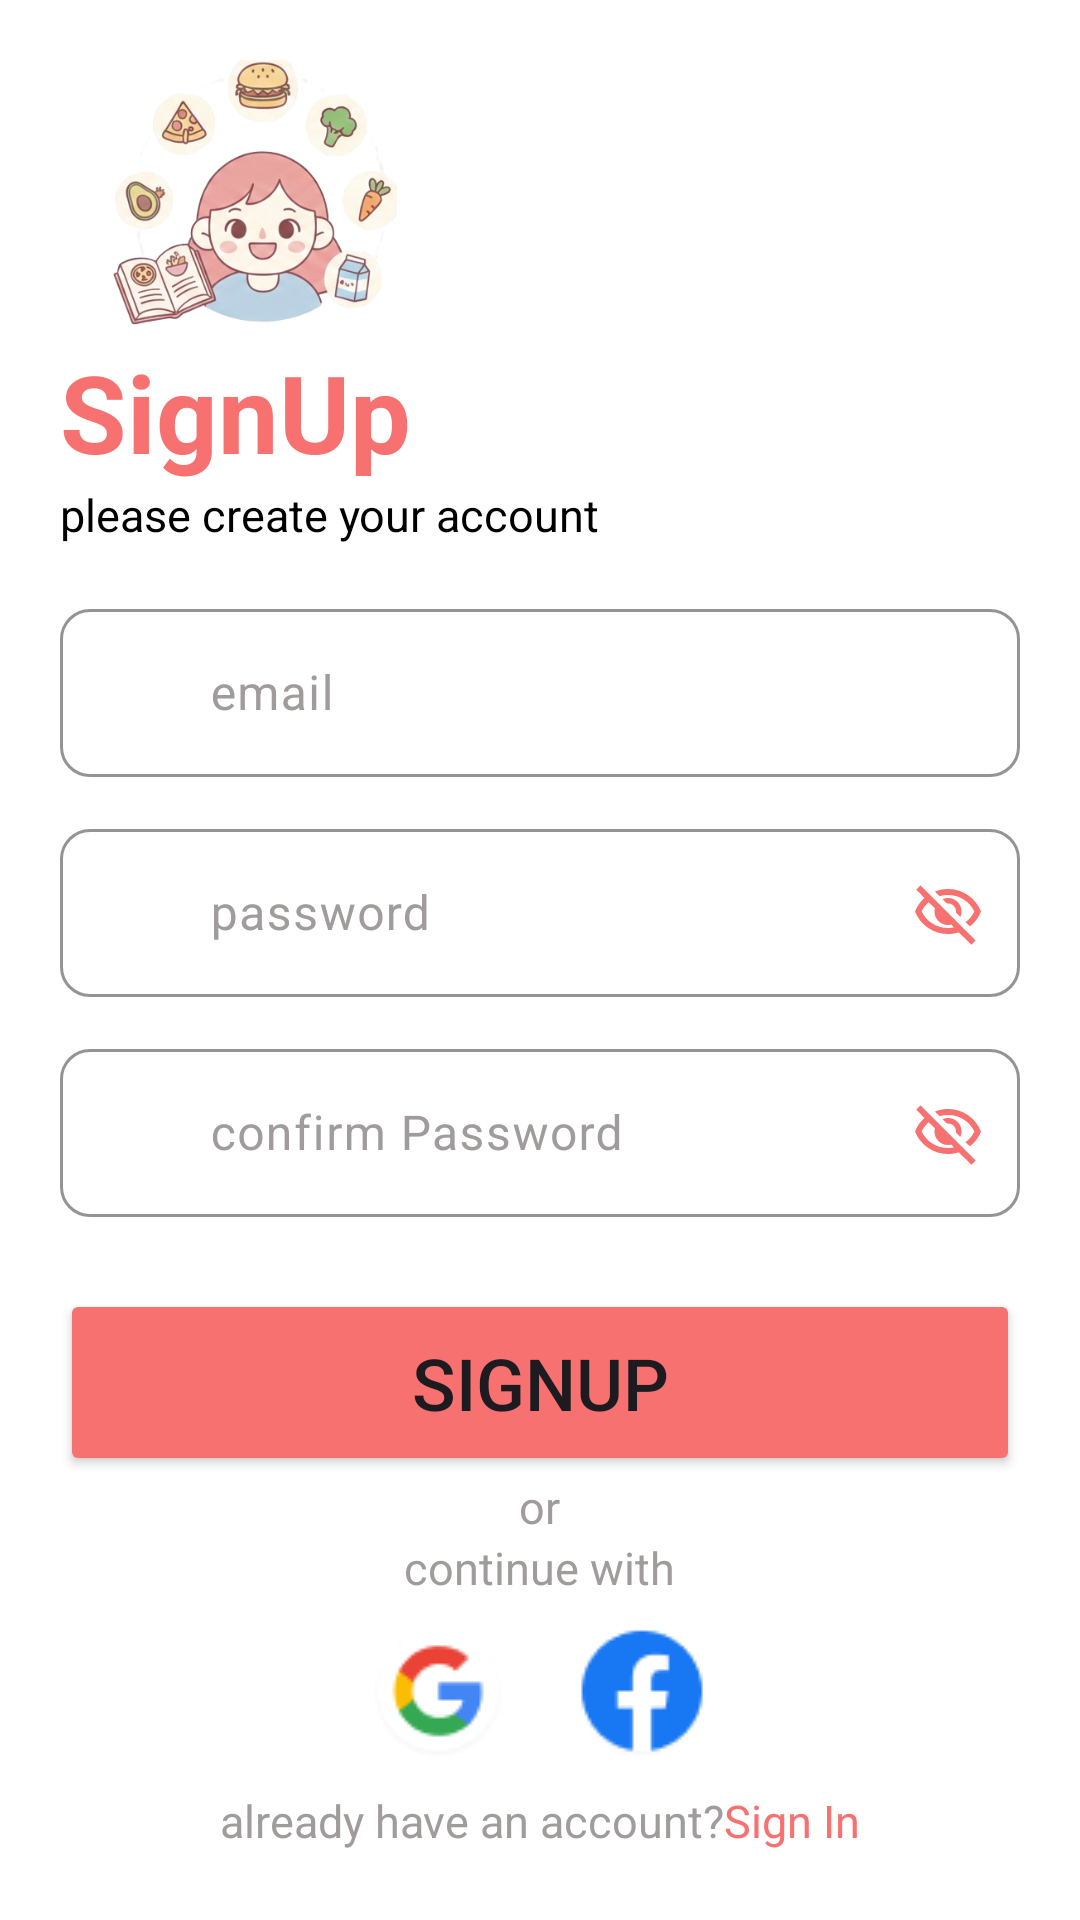

Screen size 1080 x 1920. Icon name, then its box in pixels as bbox=(x1, y1, x2, y2):
first onboard: bbox=(113, 60, 396, 325)
